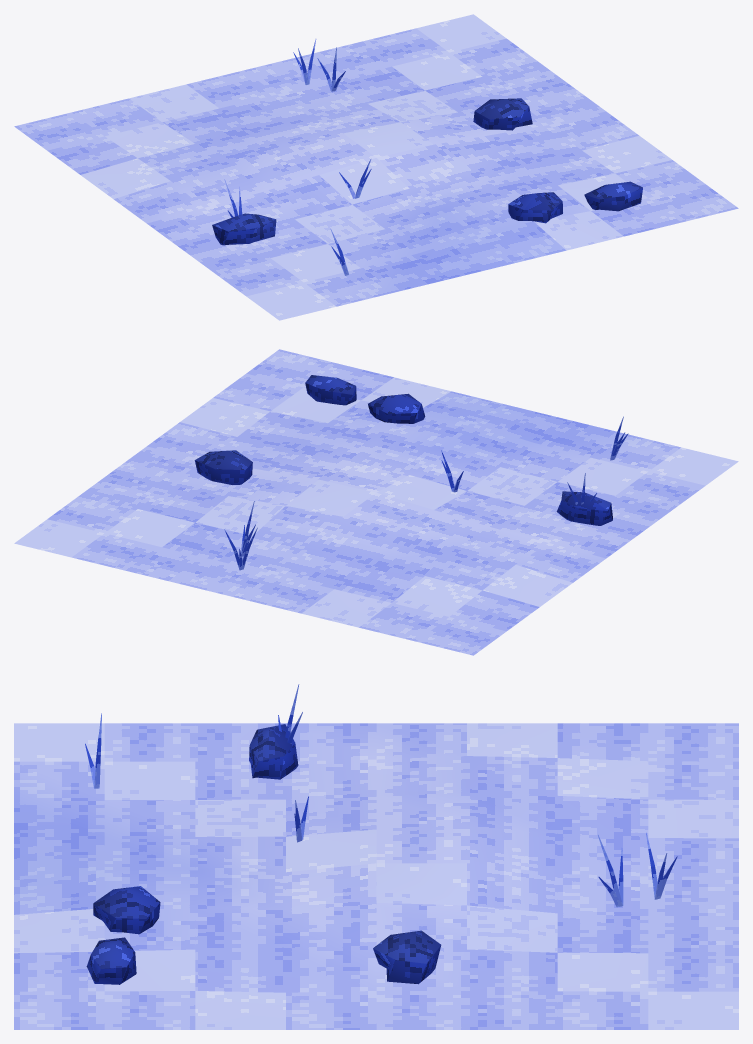
File: lake.bed.glb
3 renders of one model, top to bottom at view 1: azimuth 30°, elevation 25°; view 2: azimuth 150°, elevation 25°; view 3: azimuth 270°, elevation 25°, orthographic. The views are drawn at different scales.
Parts seen in each view (by area): view 1: kit_shell_bed, kit_rocks, kit_weeds; view 2: kit_shell_bed, kit_rocks, kit_weeds; view 3: kit_shell_bed, kit_rocks, kit_weeds.
Boxes of the visible parts, x1,y1,x2,y2 form: kit_shell_bed: (14, 14, 738, 320); kit_rocks: (212, 98, 642, 245); kit_weeds: (224, 39, 371, 275); kit_shell_bed: (14, 349, 738, 655); kit_rocks: (194, 375, 612, 525); kit_weeds: (224, 416, 628, 570); kit_shell_bed: (14, 723, 738, 1029); kit_rocks: (86, 724, 441, 984); kit_weeds: (85, 684, 677, 907).
Bounding box in the file's own units: 8 × 0.9612 × 8.
Materials: 4 (4 with a texture image).
